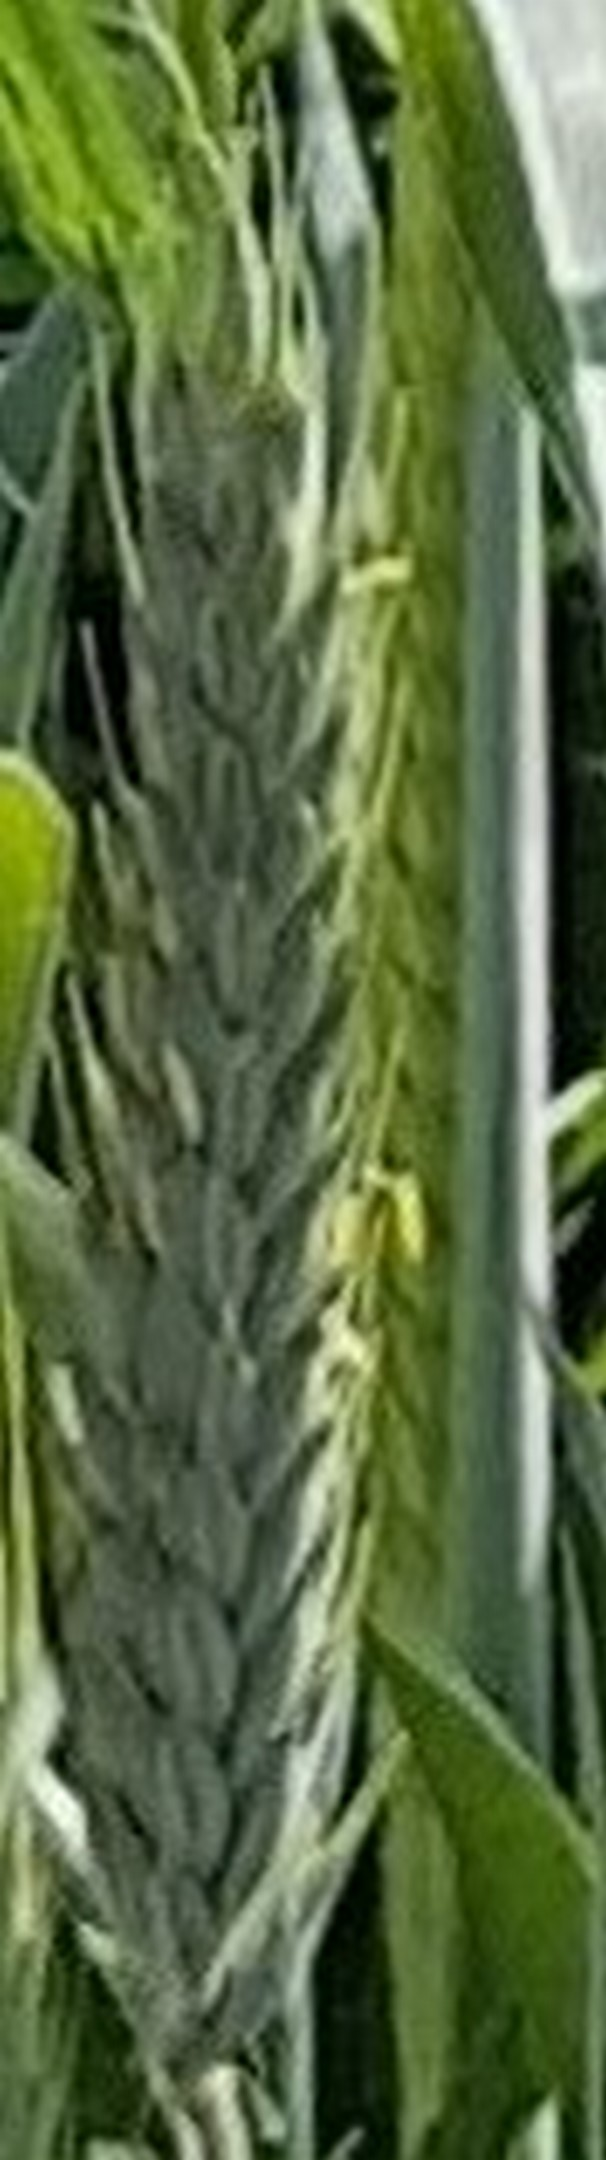Healthy Wheat: (51, 336, 409, 1984)
